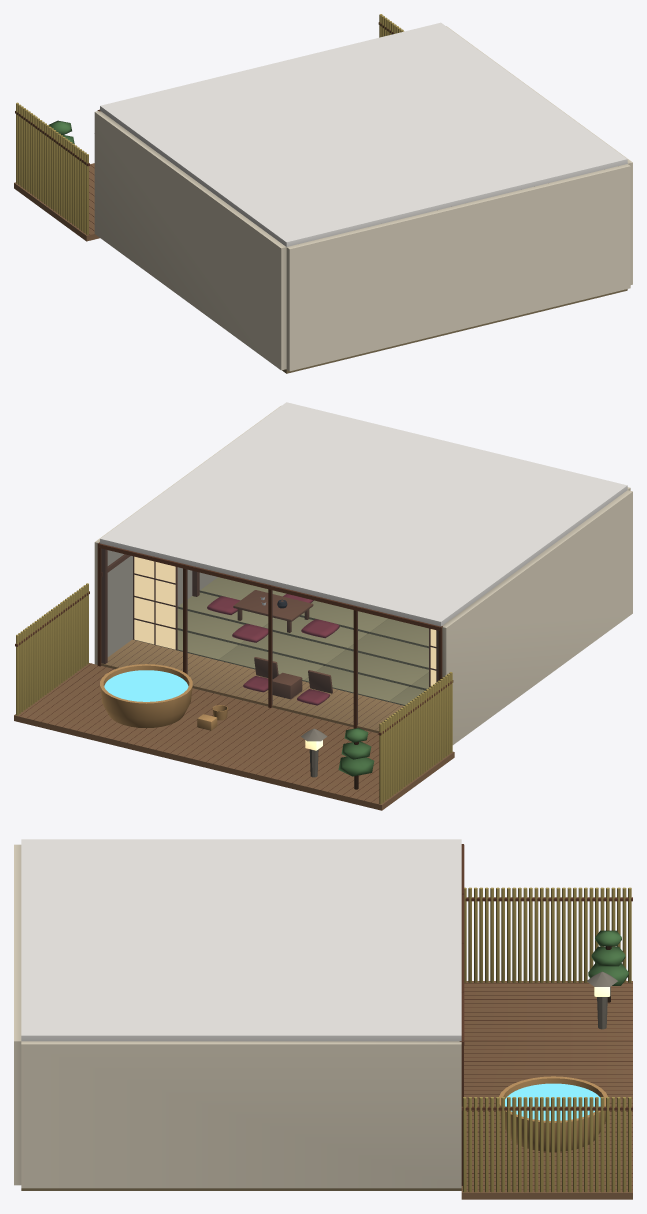
The model's file is hk-wayo.glb.
The picture shows the model from 3 angles, top to bottom: view 1: azimuth 30°, elevation 25°; view 2: azimuth 150°, elevation 25°; view 3: azimuth 270°, elevation 25°; orthographic projection. The views are drawn at different scales.
Parts seen in each view (by area): view 1: Room_plaster, Room_ceiling, Room_bamboo, Room_deck, Room_subfloor; view 2: Room_ceiling, Room_glass, Room_plaster, Room_deck, Room_tatami, Room_hinokiDark, Room_bamboo, Room_hinoki, Room_washi, Room_zabuton, Room_water, Room_tatamiEdge (+1 smaller); view 3: Room_ceiling, Room_plaster, Room_bamboo, Room_deck, Room_hinokiDark, Room_hinoki, Room_water, Room_leaf, Room_subfloor, Room_rock.
Part boxes in pixels (x1,y1,x2,y2): Room_plaster: (94,26,632,371); Room_ceiling: (100,22,627,246); Room_bamboo: (16,14,404,234); Room_deck: (14,163,99,241); Room_subfloor: (282,289,627,373); Room_ceiling: (100,402,627,626); Room_glass: (102,549,437,730); Room_plaster: (94,405,632,744); Room_deck: (14,663,454,810); Room_tatami: (177,577,428,704); Room_hinokiDark: (15,542,453,803); Room_bamboo: (16,583,452,804); Room_hinoki: (100,639,404,733); Room_washi: (134,556,436,750); Room_zabuton: (207,594,339,705); Room_water: (104,670,188,701); Room_tatamiEdge: (134,590,428,705); Room_ceiling: (21,839,461,1041); Room_plaster: (14,844,461,1188); Room_bamboo: (463,887,631,1192); Room_deck: (461,981,632,1199); Room_hinokiDark: (459,844,632,1189); Room_hinoki: (499,1076,607,1151); Room_water: (505,1083,600,1120); Room_leaf: (588,930,628,985); Room_subfloor: (21,1188,461,1190); Room_rock: (587,971,617,1029).
Bounding box in the file's own units: 8.2 × 2.82 × 10.12.
